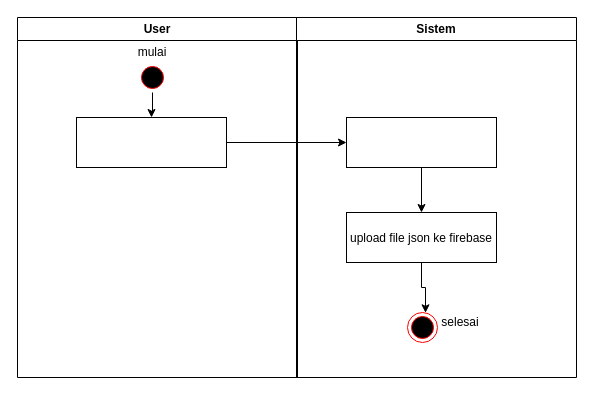
This 594x395 diagram has some shape labels left out. Here are the shapes that lost their labels. From the top down, the centre of each, then its label:
point (151, 142): klik tombol upload
point (421, 142): buat hasil bobot menjadi json
